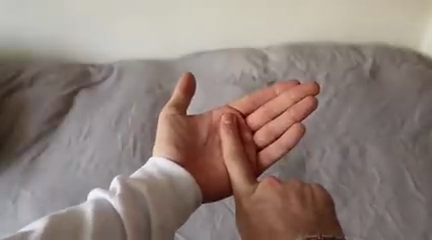L: (144, 61, 363, 236)
